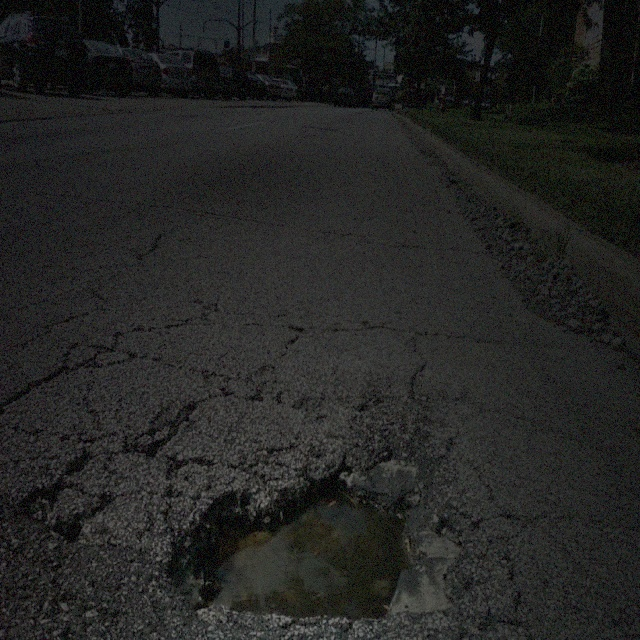pothole: (170, 460, 420, 619)
